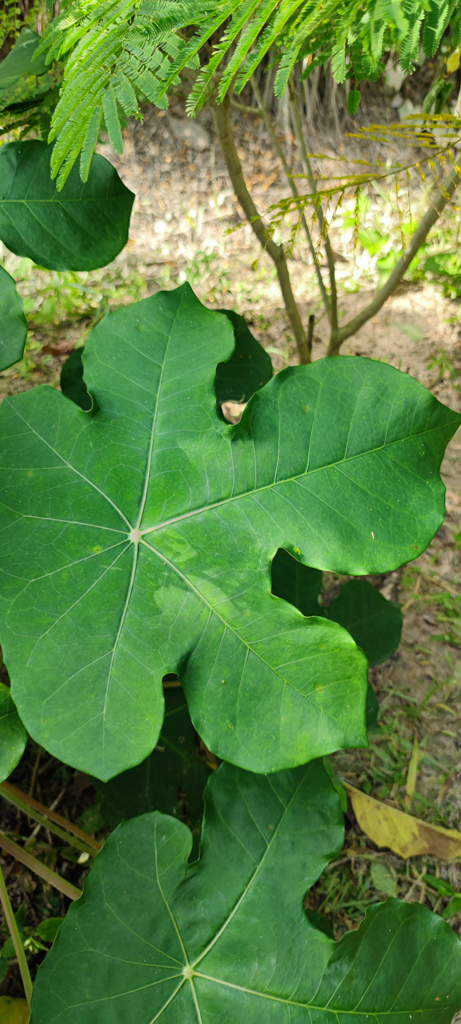frog-eye leafspot: (309, 678, 327, 702), (89, 542, 105, 560)
